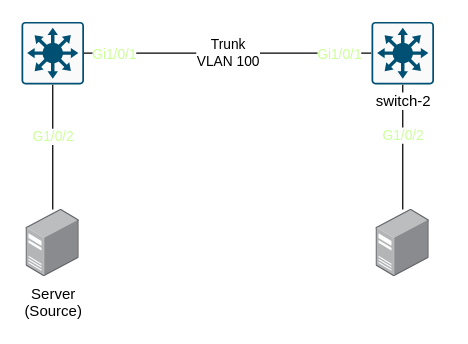
Image size: 468x344. Some labels were removed from this diagram. Each missing label, with the box of its shape:
switch-1: (20, 21, 84, 84)
WireShark (Destination): (376, 209, 429, 276)
